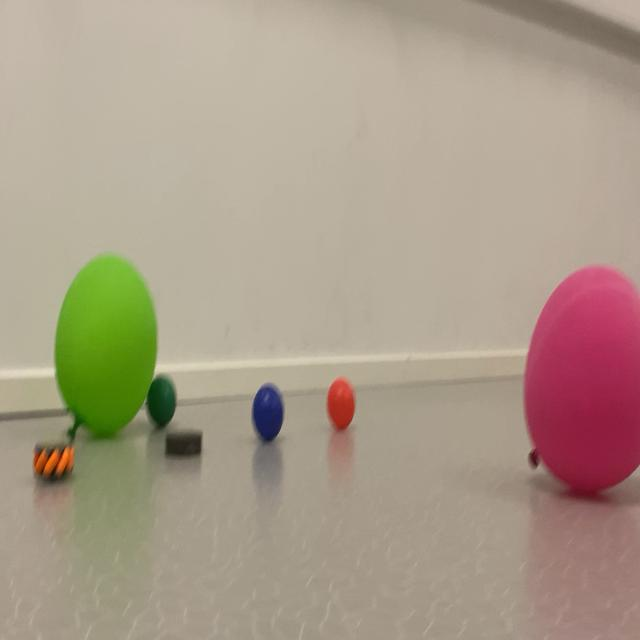7: (314, 348, 361, 457)
green ball: (247, 334, 297, 478)
red ball: (146, 370, 197, 447)
